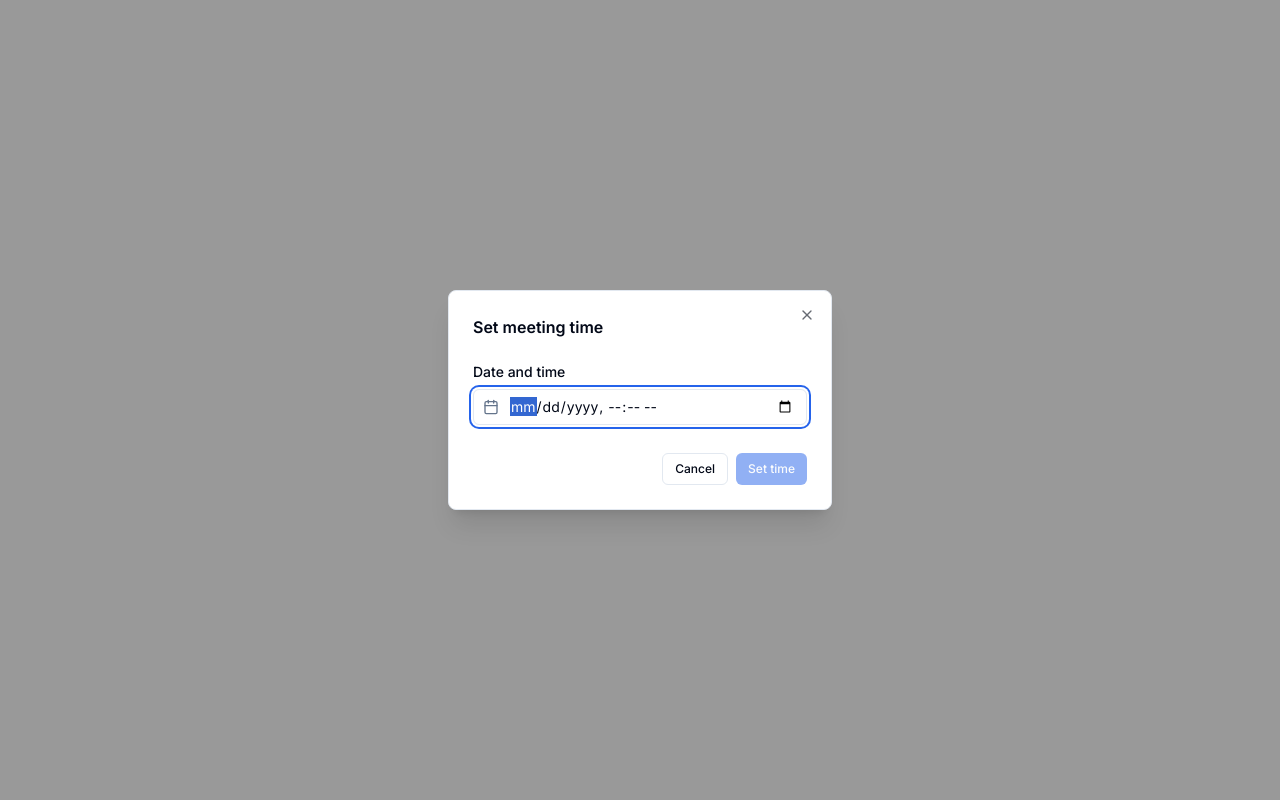
Test: MeetingSchedulerDialog › enables Set time button when a date is typed
Type "2026-07-01T10:00" into the field labelled "Date and time" at {"x": 640, "y": 407}, box [473,389,807,425]
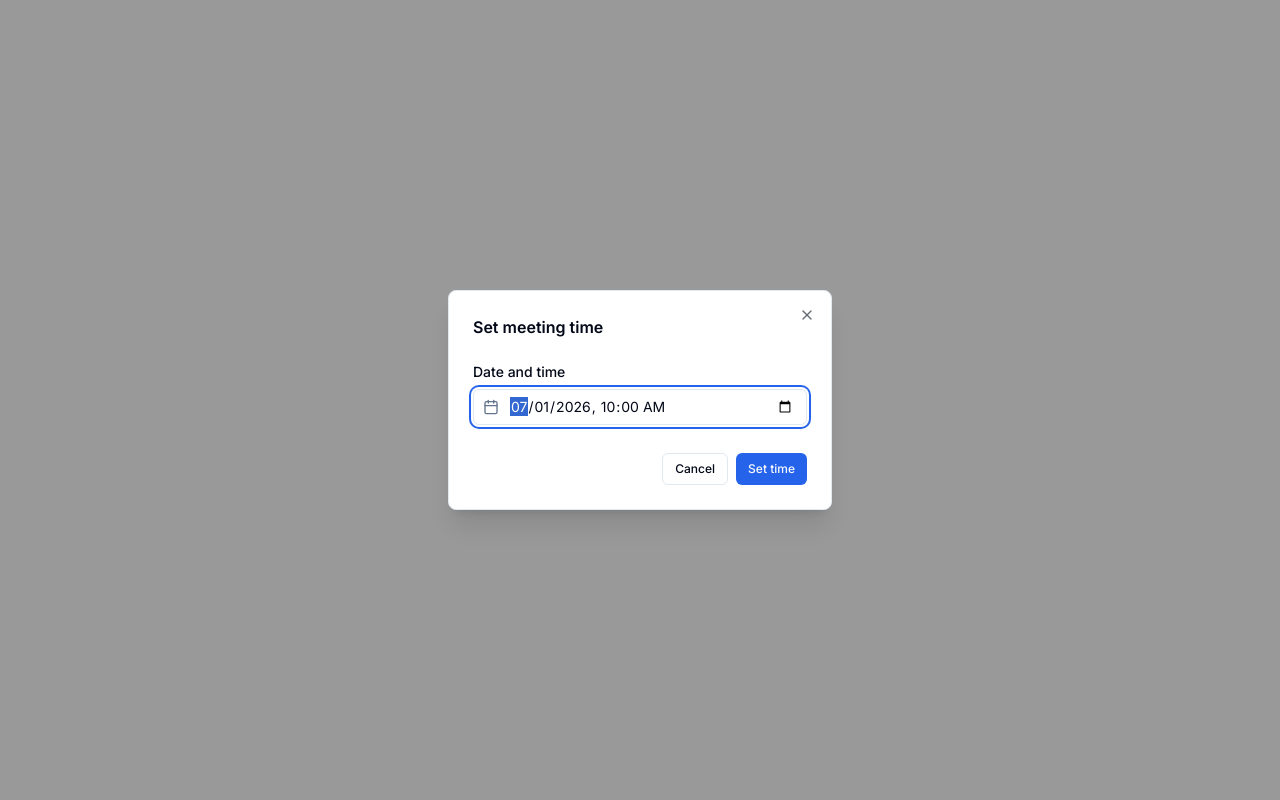
Result: the button "Set time" is enabled at [736,453,807,485]
